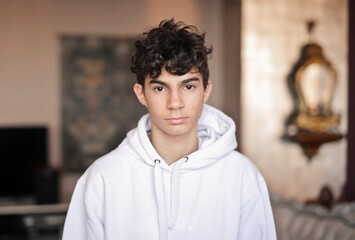teen: (117, 25, 234, 157)
